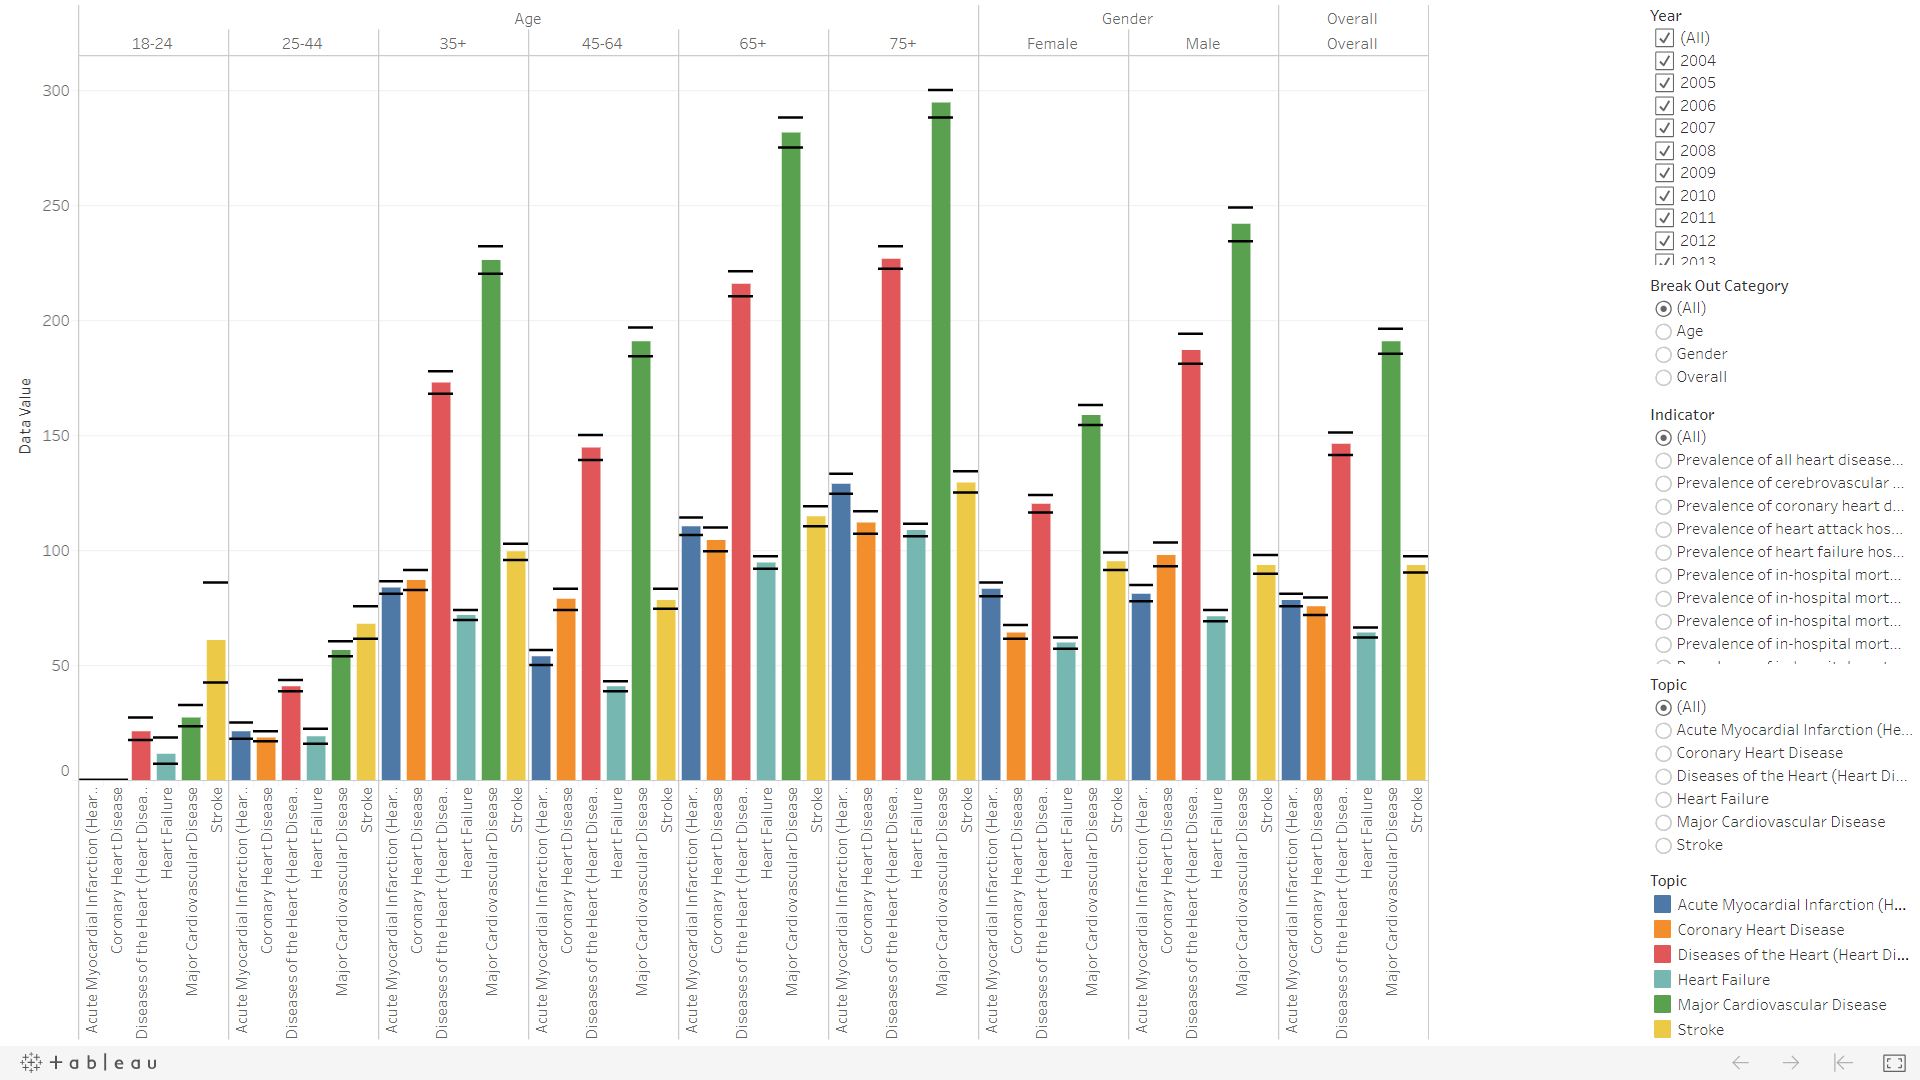

What the dashboard file says about the page in this screenshot:
{"tool":"tableau","page":{"name":"Dashboard 1","canvas":[1000,1000],"units":"permille","ordinal":0},"visuals":[{"type":"title","box":[4.9,9.9,891.9,62]},{"type":"filter","title":"Healthcare Cost & Utilization Project","param":"[federated.1bno0jr0gk3gvf18dm4wj1s1rk4y].[none:Year:ok]","box":[896.8,9.9,98.3,209.4]},{"type":"worksheet","title":"Healthcare Cost & Utilization Project","mark":"Automatic","rows":["Data_Value"],"cols":["Break_Out_Category","Break_Out","Topic"],"box":[4.9,71.9,891.9,918.2]},{"type":"filter","title":"Healthcare Cost & Utilization Project","param":"[federated.1bno0jr0gk3gvf18dm4wj1s1rk4y].[none:Break_Out_Category:nk]","box":[896.8,219.3,98.3,158.6]},{"type":"filter","title":"Healthcare Cost & Utilization Project","param":"[federated.1bno0jr0gk3gvf18dm4wj1s1rk4y].[none:Indicator:nk]","box":[896.8,377.9,98.3,209.4]},{"type":"filter","title":"Healthcare Cost & Utilization Project","param":"[federated.1bno0jr0gk3gvf18dm4wj1s1rk4y].[none:Topic:nk]","box":[896.8,587.4,98.3,209.4]},{"type":"legend","title":"Healthcare Cost & Utilization Project","param":"[federated.1bno0jr0gk3gvf18dm4wj1s1rk4y].[none:Topic:nk]","box":[896.8,796.8,98.3,193.3]}]}

Visuals, with their boxes on the dashboard's canvas, which has no fixed pixel size, in thousandths of its width and height (x1, y1, x2, y2). These are canvas units, not pixel positions in the 1920x1080 screenshot, which may show the page scaled, cropped or inside an application window:
title: <bbox>5, 10, 897, 72</bbox>
"Healthcare Cost & Utilization Project" filter: <bbox>897, 10, 995, 219</bbox>
"Healthcare Cost & Utilization Project" worksheet: <bbox>5, 72, 897, 990</bbox>
"Healthcare Cost & Utilization Project" filter: <bbox>897, 219, 995, 378</bbox>
"Healthcare Cost & Utilization Project" filter: <bbox>897, 378, 995, 587</bbox>
"Healthcare Cost & Utilization Project" filter: <bbox>897, 587, 995, 797</bbox>
"Healthcare Cost & Utilization Project" legend: <bbox>897, 797, 995, 990</bbox>
